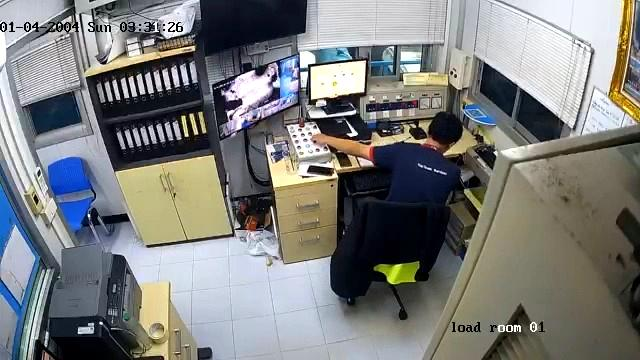Head: (428, 112, 462, 151)
People: (313, 112, 462, 203)
Phone: (307, 165, 333, 175), (336, 152, 351, 166)
